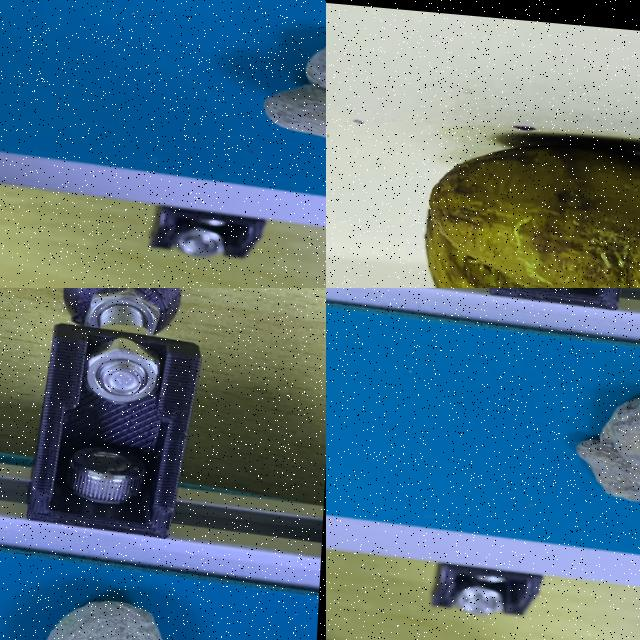Agglomerated_cocoabeans: (359, 73, 639, 287), (148, 0, 325, 187), (495, 333, 639, 521), (0, 537, 231, 639)
